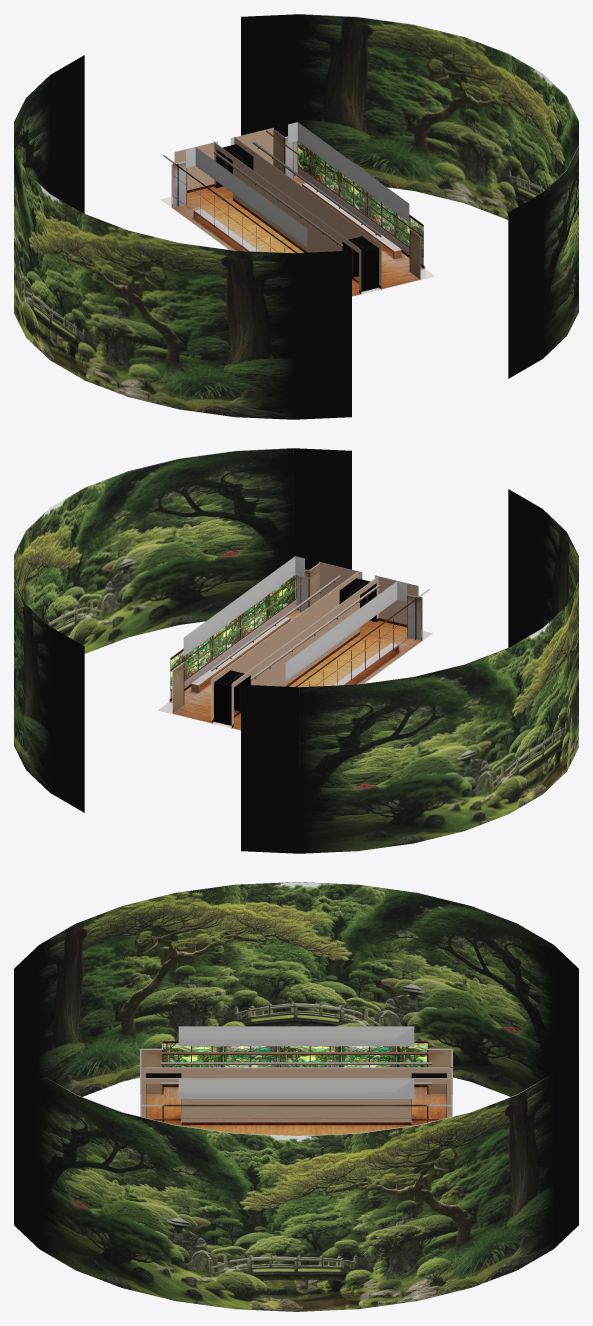
3 views of the same model, one above another, from view 1: azimuth 30°, elevation 25°; view 2: azimuth 150°, elevation 25°; view 3: azimuth 270°, elevation 25° (orthographic). The views are drawn at different scales.
Parts seen in each view (by area): view 1: Object_11, Object_9, Object_6, Object_8, Object_5, Object_3, Object_7, Object_10, Object_12; view 2: Object_11, Object_9, Object_6, Object_8, Object_5, Object_3, Object_7, Object_10, Object_12; view 3: Object_11, Object_6, Object_9, Object_3, Object_8, Object_5, Object_7, Object_12.
Part boxes in pixels (x1,y1,x2,y2): Object_11: (14,14,578,419); Object_9: (214,137,381,294); Object_6: (163,122,412,252); Object_8: (160,177,434,296); Object_5: (171,129,423,279); Object_3: (298,142,423,256); Object_7: (193,141,401,259); Object_10: (174,127,367,283); Object_12: (297,145,424,268); Object_11: (14,448,578,853); Object_9: (211,572,378,728); Object_6: (180,556,429,686); Object_8: (158,610,432,730); Object_5: (171,563,422,713); Object_3: (170,575,295,690); Object_7: (191,575,399,693); Object_10: (225,561,418,717); Object_12: (169,578,296,701); Object_11: (14,882,578,1311); Object_6: (140,1026,452,1106); Object_9: (140,1067,452,1125); Object_3: (162,1043,427,1067); Object_8: (146,1087,446,1135); Object_5: (140,1048,452,1122); Object_7: (161,1062,431,1086); Object_12: (162,1041,428,1087).
Size of what is drawn, in the model's own units: 241 by 77.86 by 227.
8 materials, 8 textured.
